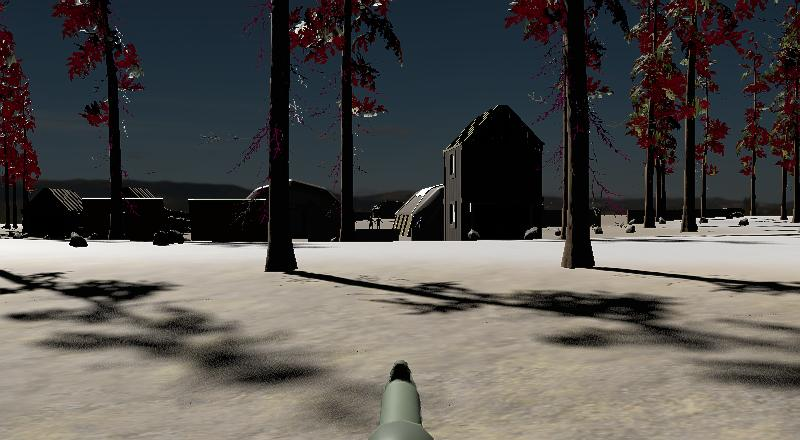House: (442, 103, 544, 238), (24, 185, 84, 240)
